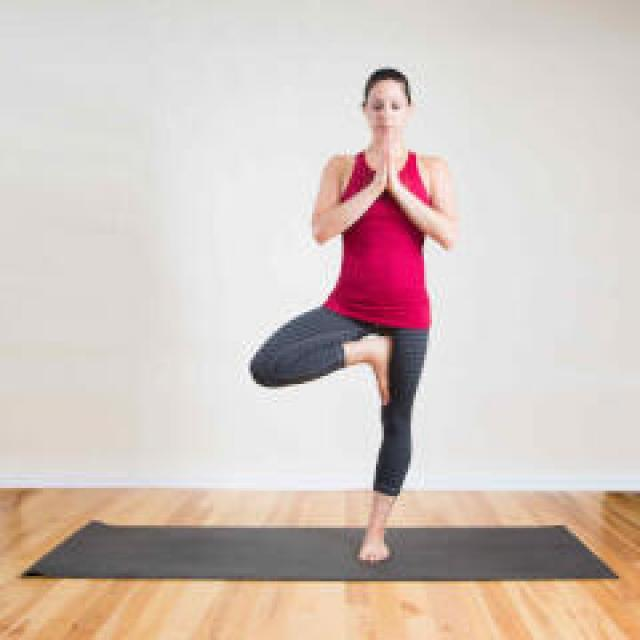yoga-pose tree: (250, 65, 460, 568)
